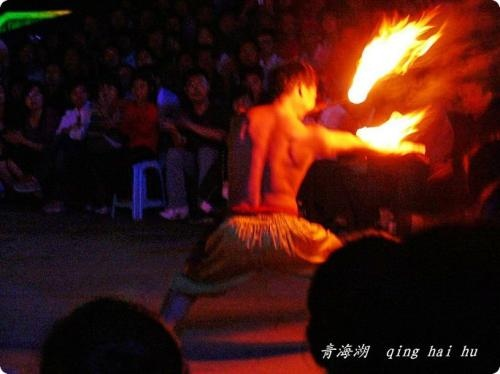fire: (346, 5, 448, 105), (355, 107, 429, 156)
